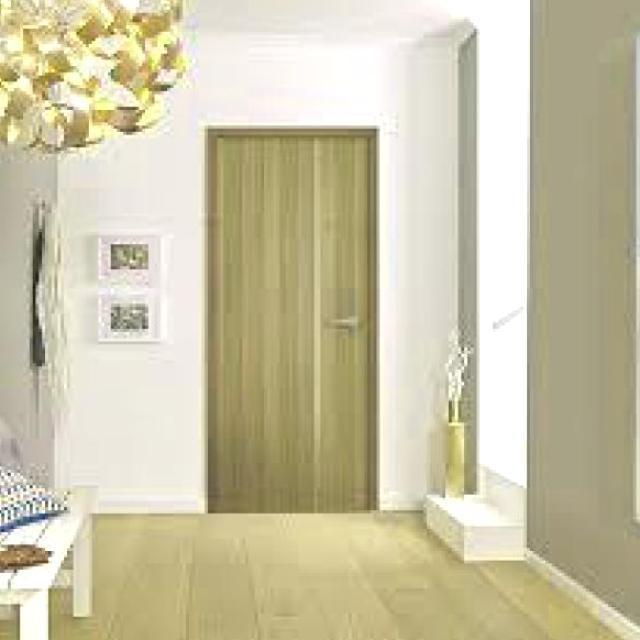door: (206, 127, 377, 513)
